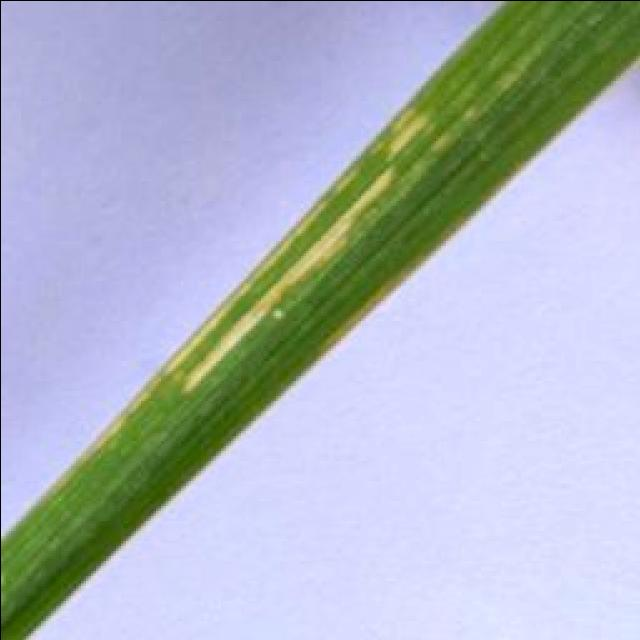Unhealthy: (175, 157, 395, 395), (381, 105, 439, 165)
